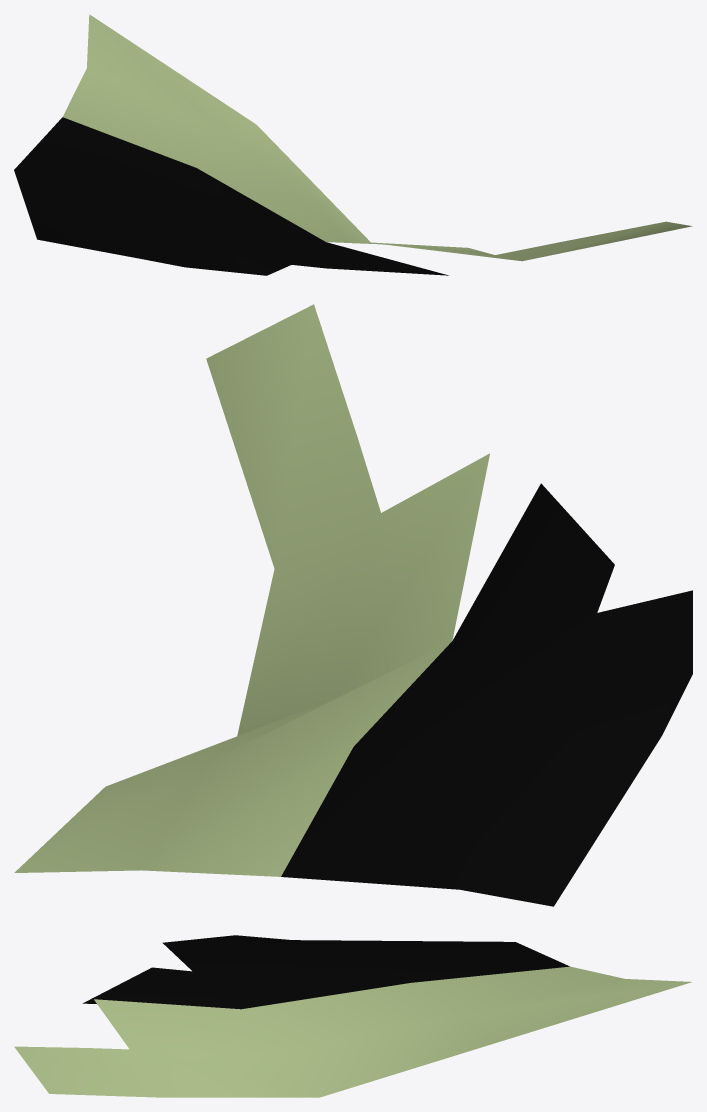
The model's file is Shipwreck_Sail.fbx.
3 renders of one model, top to bottom at view 1: azimuth 30°, elevation 25°; view 2: azimuth 150°, elevation 25°; view 3: azimuth 270°, elevation 25°, orthographic. The views are drawn at different scales.
Visible parts, largest first — view 1: Sail Piece; view 2: Sail Piece; view 3: Sail Piece.
Part boxes in pixels (<box>): Sail Piece: <box>14,14,692,275</box>; Sail Piece: <box>14,304,692,906</box>; Sail Piece: <box>14,935,691,1097</box>.
Bounding box in the file's own units: 166 × 42.8 × 252.
